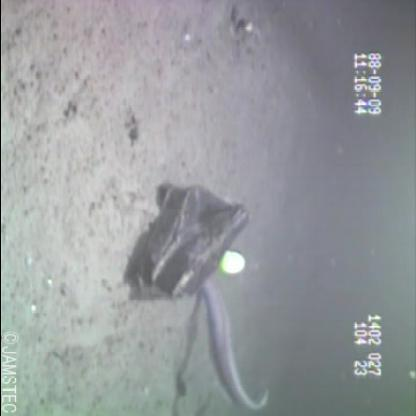Bio: (190, 270, 272, 414)
Rác: (118, 180, 259, 302)
